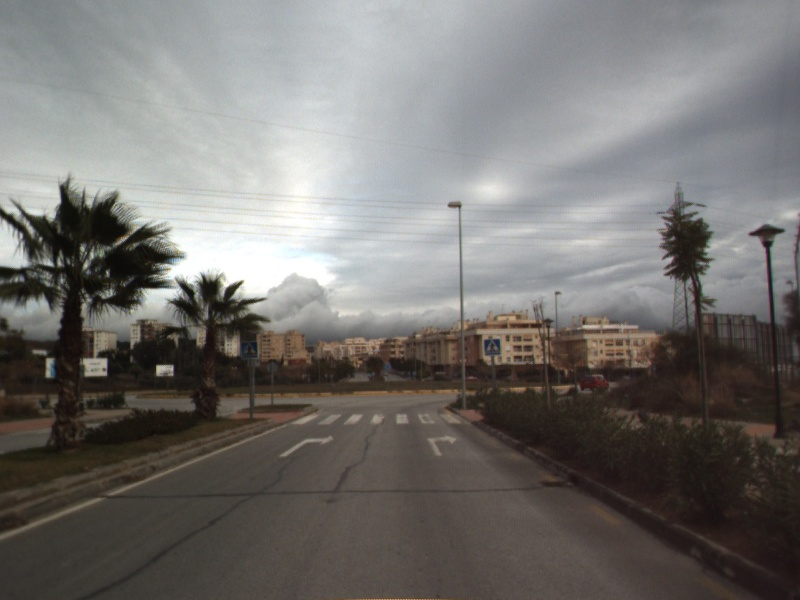RIGHT: (278, 433, 336, 459), (425, 432, 459, 458)
